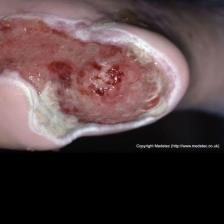Wound: (0, 12, 185, 144)
